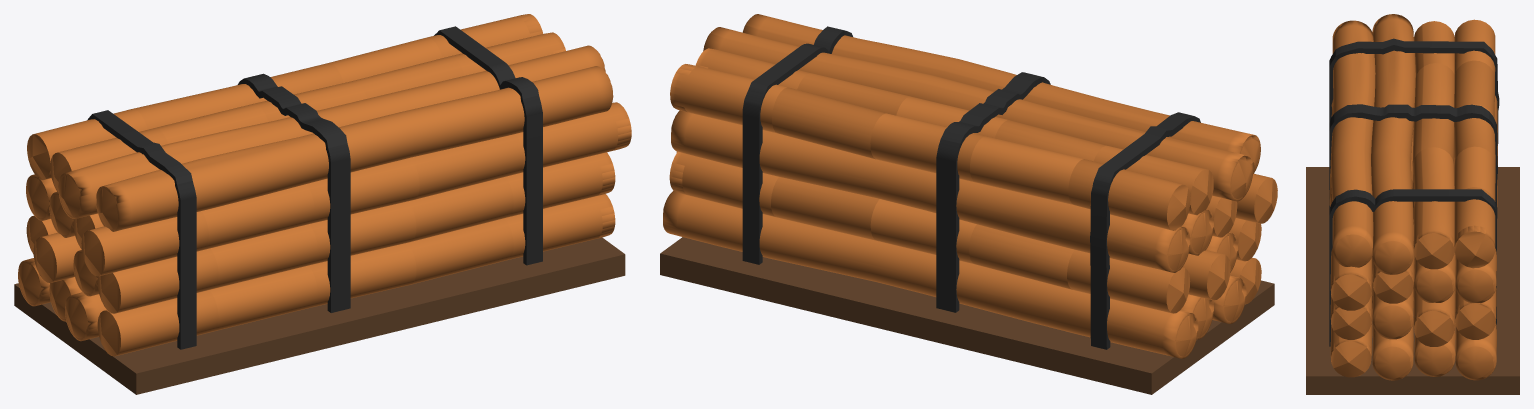
File: wood_002.fbx
The picture shows the model from 3 angles, left to right: view 1: azimuth 30°, elevation 25°; view 2: azimuth 150°, elevation 25°; view 3: azimuth 270°, elevation 25°; orthographic projection. The views are drawn at different scales.
Parts seen in each view (by area): view 1: wood.003; view 2: wood.003; view 3: wood.003.
Part boxes in pixels (<box>): wood.003: <box>14,14,631,394</box>; wood.003: <box>660,14,1277,394</box>; wood.003: <box>1306,14,1519,394</box>.
Bounding box in the file's own units: 10.07 × 3.48 × 3.92.
